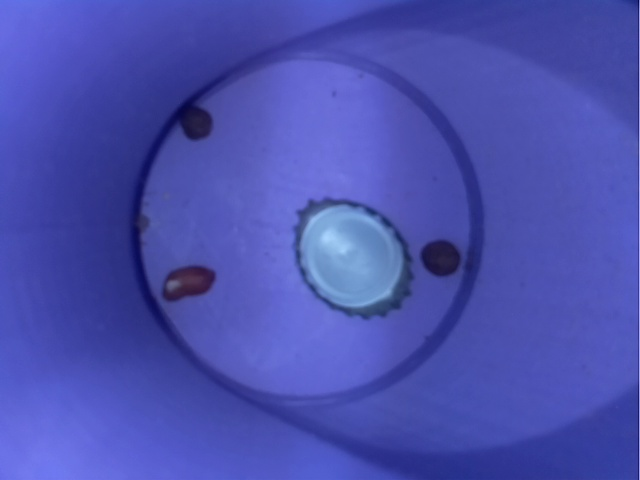capsule: (277, 190, 420, 326)
croquette: (150, 255, 229, 310), (412, 232, 464, 281), (169, 97, 220, 145)
